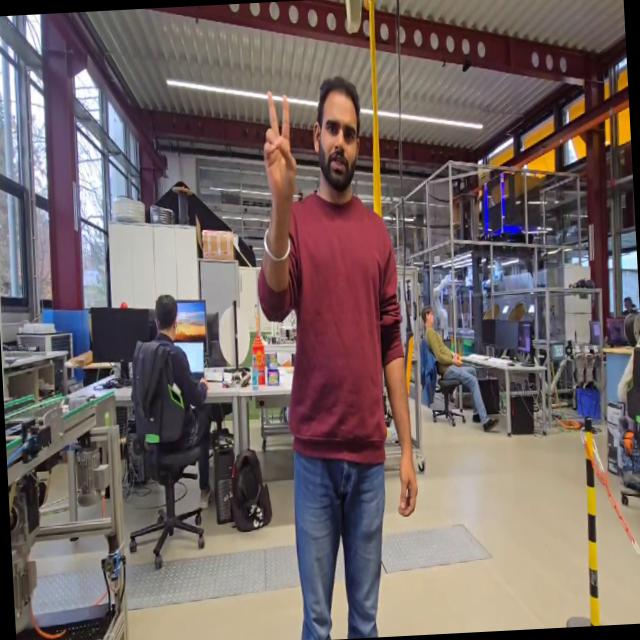v_sign: (258, 86, 300, 208)
